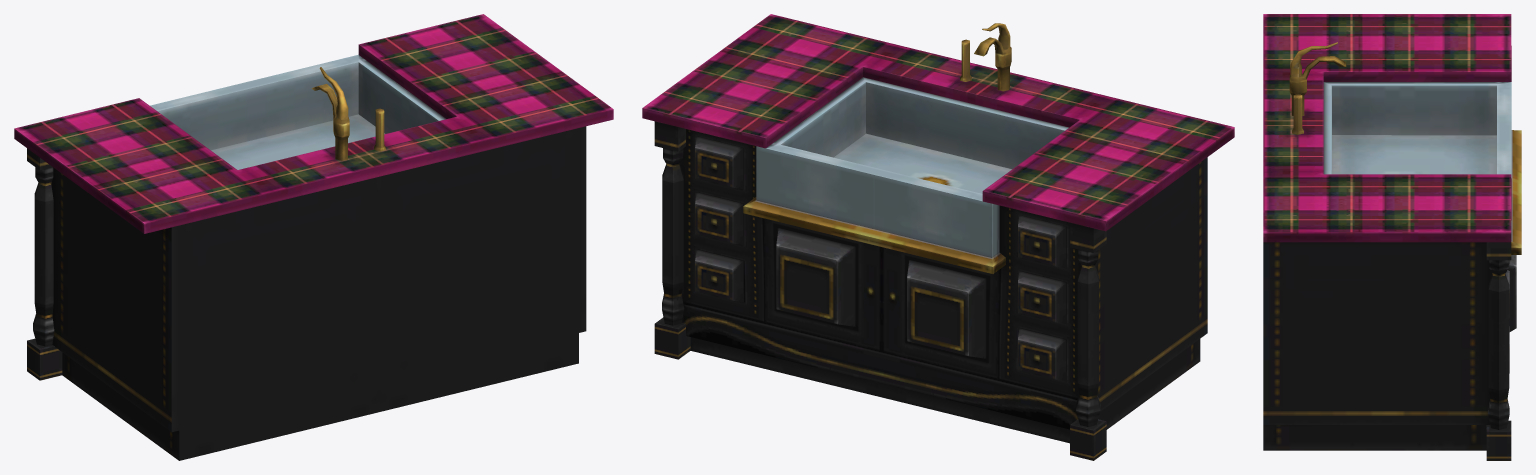
File: furni_0200326_01.FBX
3 views of the same model, side by side, from view 1: azimuth 30°, elevation 25°; view 2: azimuth 150°, elevation 25°; view 3: azimuth 270°, elevation 25° (orthographic). The views are drawn at different scales.
Parts seen in each view (by area): view 1: furni_0200326_01; view 2: furni_0200326_01; view 3: furni_0200326_01.
Part boxes in pixels (left/top/right/bottom): furni_0200326_01: left=14, top=14, right=613, bottom=460; furni_0200326_01: left=642, top=14, right=1234, bottom=460; furni_0200326_01: left=1263, top=14, right=1521, bottom=460.
Size of the model in its own units: 160 by 105 by 80.01.
